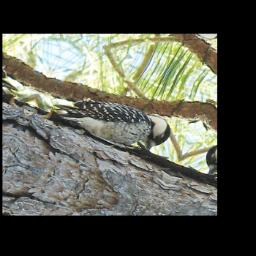Woodpecker: (44, 79, 177, 162)
